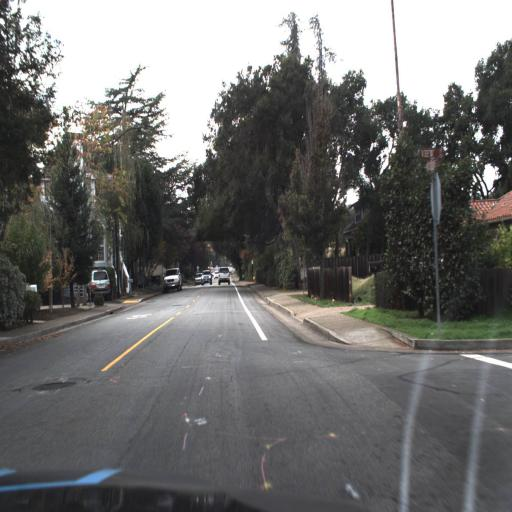car: (80, 261, 114, 305), (162, 266, 184, 292), (215, 265, 232, 287), (202, 270, 212, 285)
